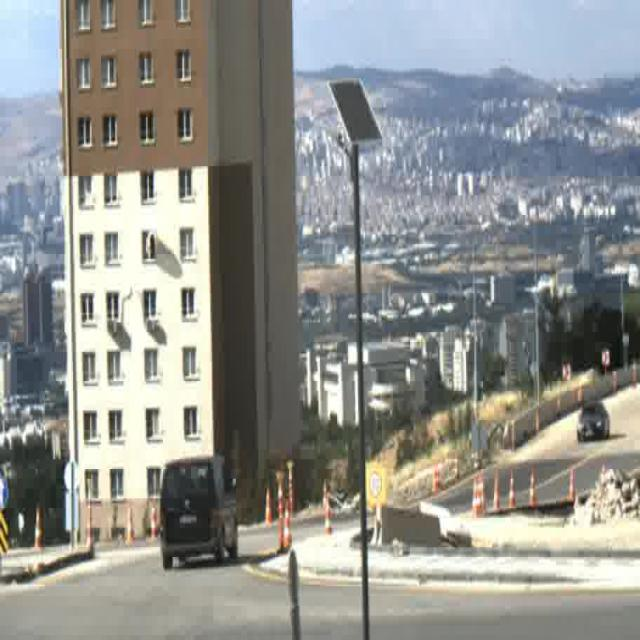Car: (160, 454, 236, 565), (576, 401, 609, 441)
